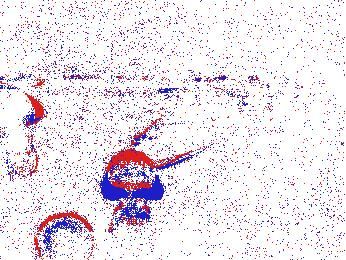flame jellyfish: (101, 149, 164, 234), (1, 83, 44, 182), (33, 212, 95, 260)
